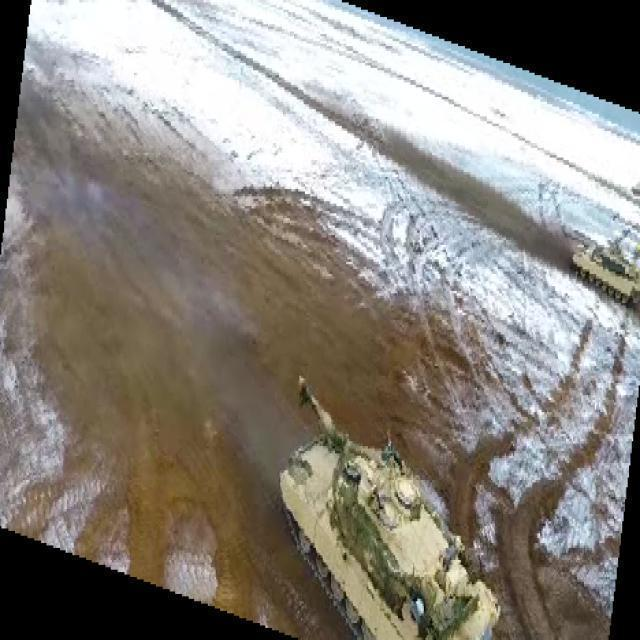MIL_MBT: (276, 366, 502, 640), (562, 226, 640, 304)
